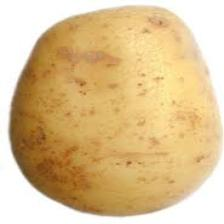Potato: (6, 3, 223, 218)
